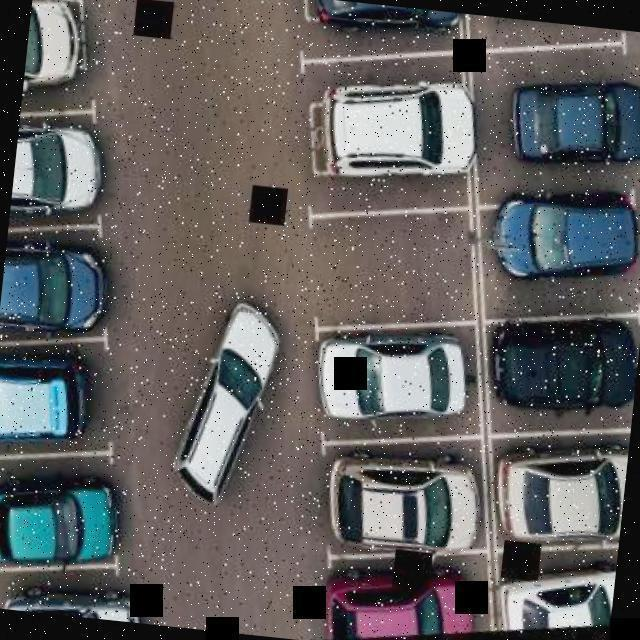Car: (153, 283, 294, 524), (299, 48, 494, 199), (475, 150, 640, 323), (470, 277, 640, 441), (296, 303, 481, 451), (310, 439, 497, 584), (474, 420, 630, 570), (492, 44, 640, 202), (0, 441, 135, 592), (0, 205, 128, 356), (8, 95, 120, 238), (309, 549, 479, 640), (0, 334, 106, 474), (491, 544, 617, 639), (0, 551, 153, 623), (297, 0, 464, 52), (461, 13, 640, 59), (21, 0, 94, 112)
Vacant: (294, 194, 480, 336)
